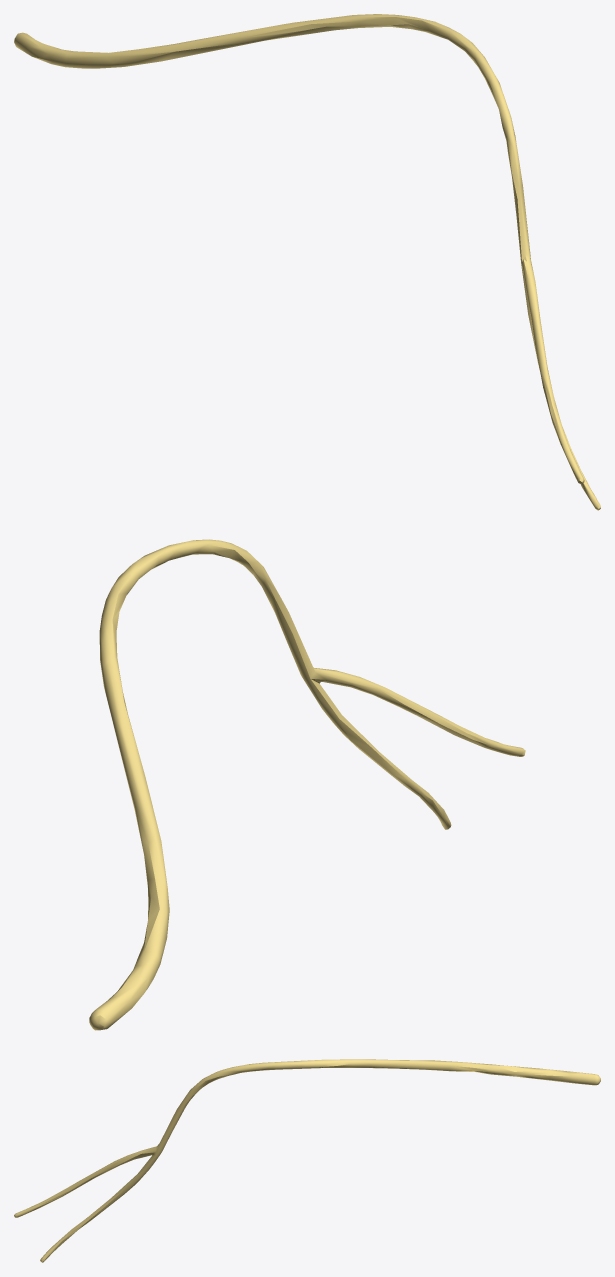
Rendered from fma52677_fj3937.glb.
3 renders of one model, top to bottom at view 1: azimuth 30°, elevation 25°; view 2: azimuth 150°, elevation 25°; view 3: azimuth 270°, elevation 25°, orthographic. The views are drawn at different scales.
Visible parts, largest first — view 1: FMA52677_FJ3937; view 2: FMA52677_FJ3937; view 3: FMA52677_FJ3937.
Boxes of the visible parts, x1,y1,x2,y2 form: FMA52677_FJ3937: (14, 14, 600, 510); FMA52677_FJ3937: (89, 539, 525, 1030); FMA52677_FJ3937: (14, 1059, 600, 1262).
Bounding box in the file's own units: 0.00692 × 0.00996 × 0.0245.
